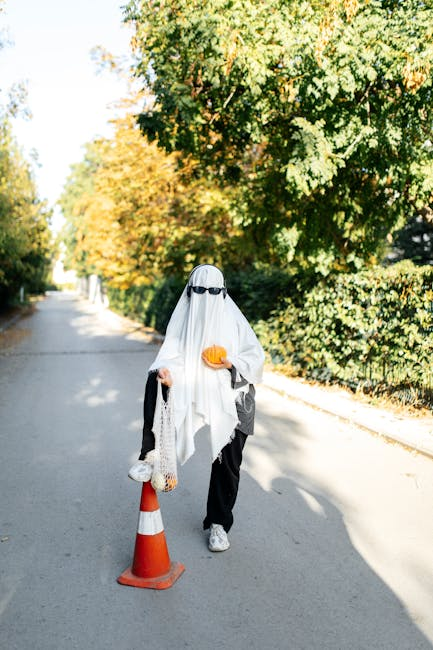traffic_cone: (116, 478, 186, 590)
